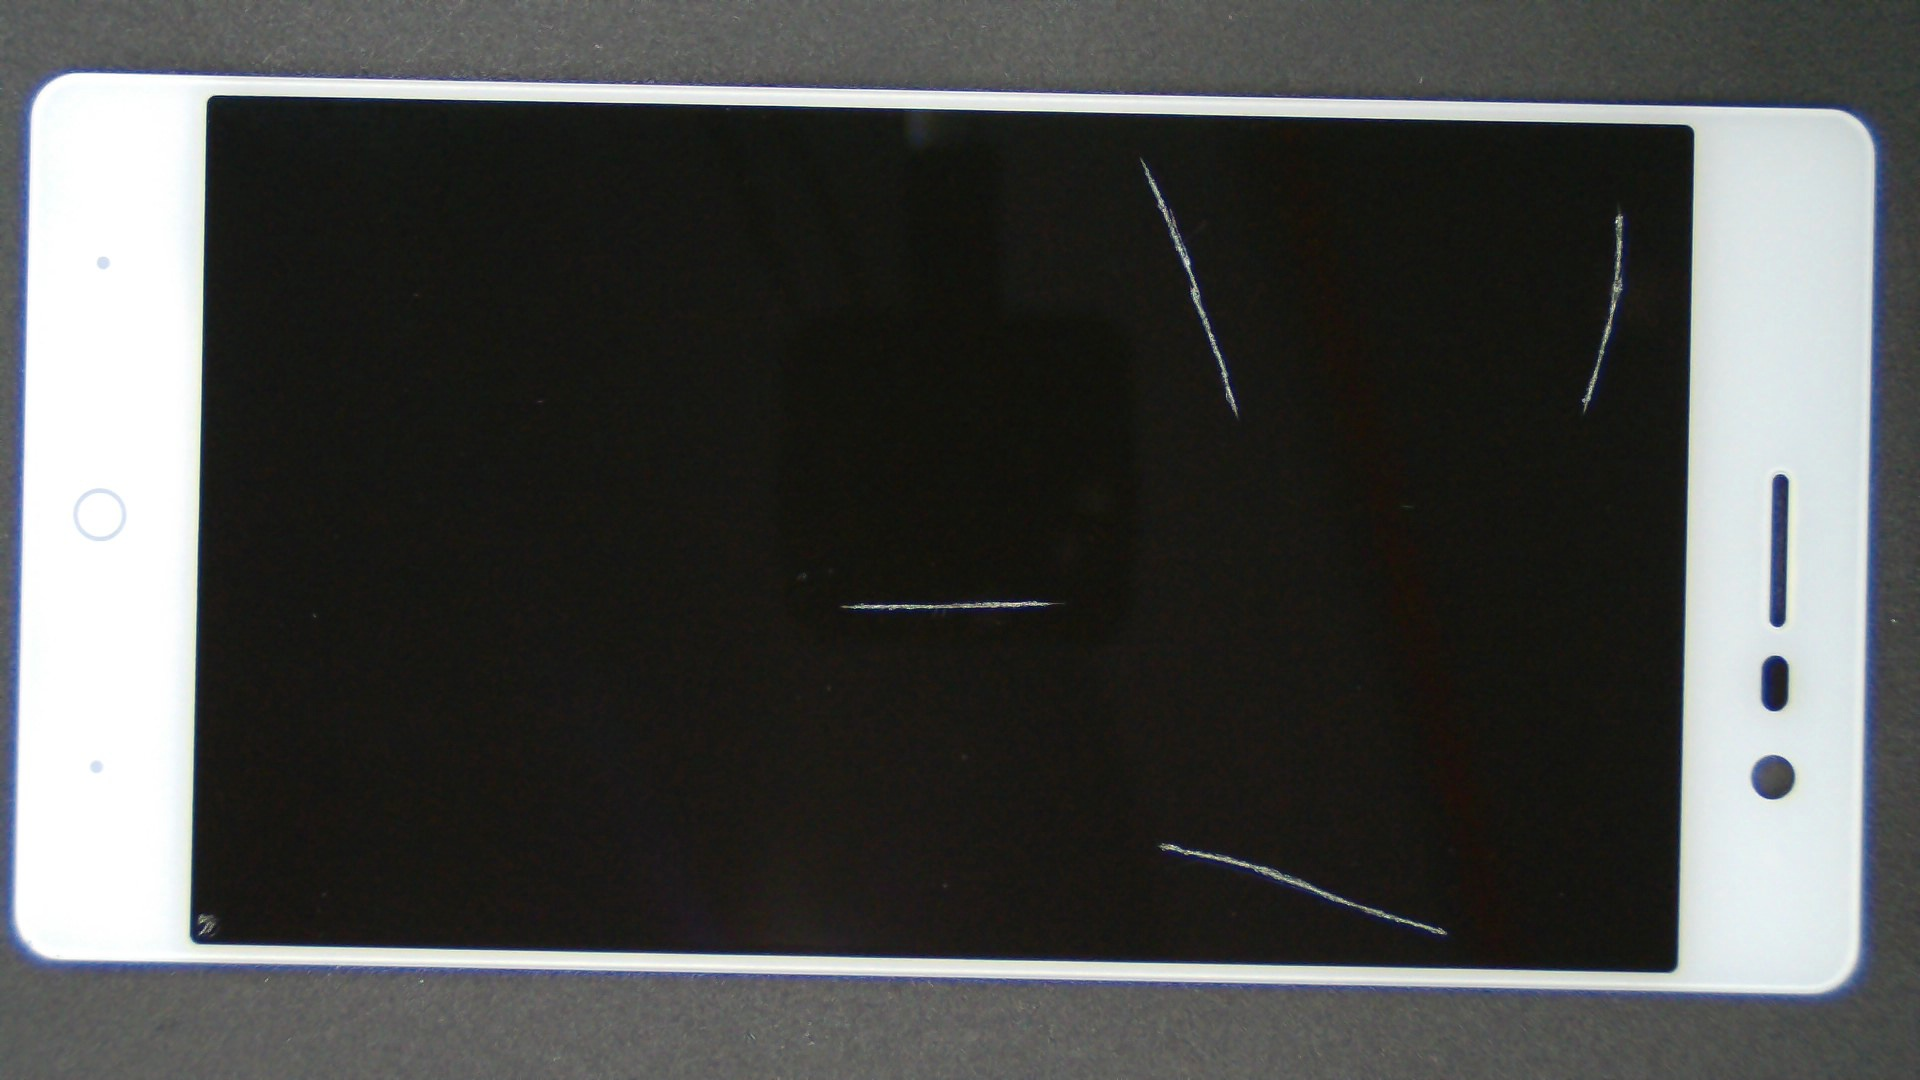oil: (582, 421, 1742, 1080), (489, 299, 1466, 902), (810, 103, 1920, 311), (571, 79, 1712, 237), (99, 456, 297, 1080)
